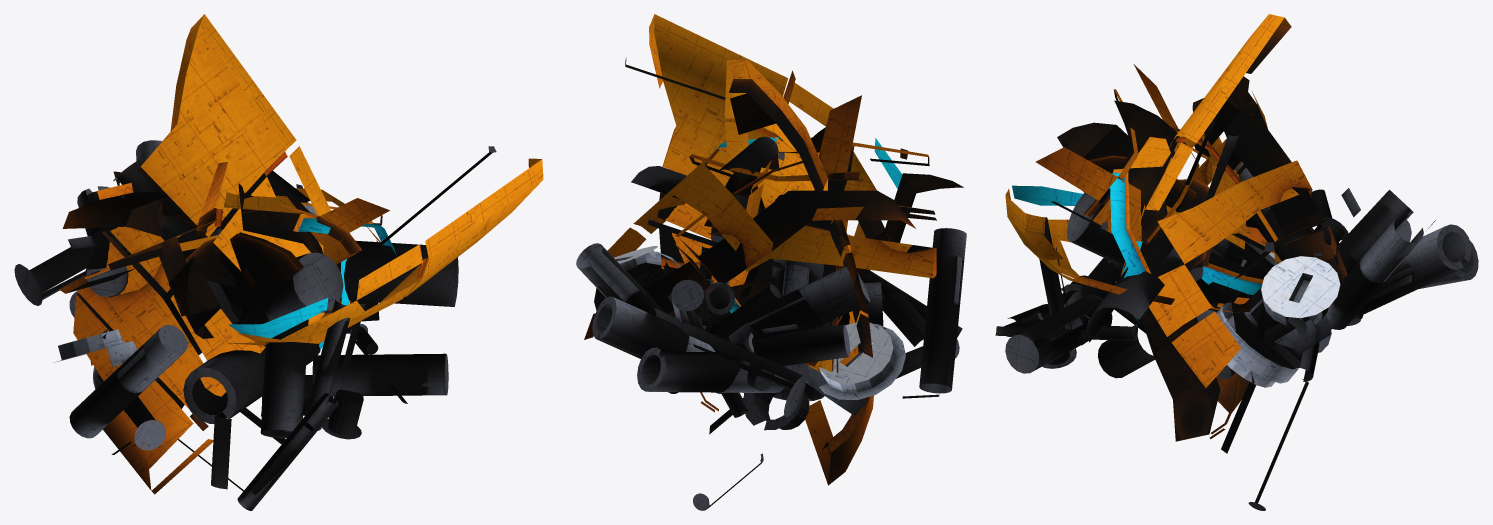
Rendered from MonsterA_die10.obj.
The picture shows the model from 3 angles, left to right: view 1: azimuth 30°, elevation 25°; view 2: azimuth 150°, elevation 25°; view 3: azimuth 270°, elevation 25°; orthographic projection. The views are drawn at different scales.
Parts seen in each view (by area): view 1: Box001; view 2: Box001; view 3: Box001.
Part boxes in pixels (x1,y1,x2,y2): Box001: [14, 14, 543, 510]; Box001: [576, 14, 966, 510]; Box001: [995, 14, 1478, 510].
Bounding box in the file's own units: 240 × 286 × 263.
1 material, 1 textured.
